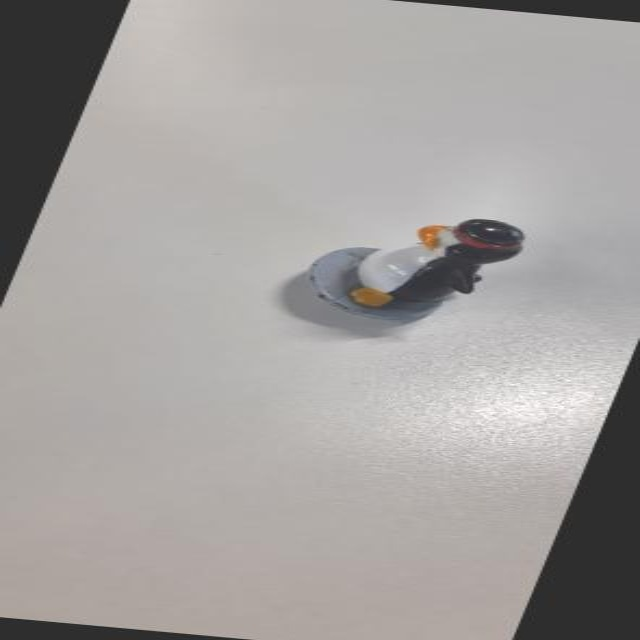Penguin: (263, 204, 540, 337)
